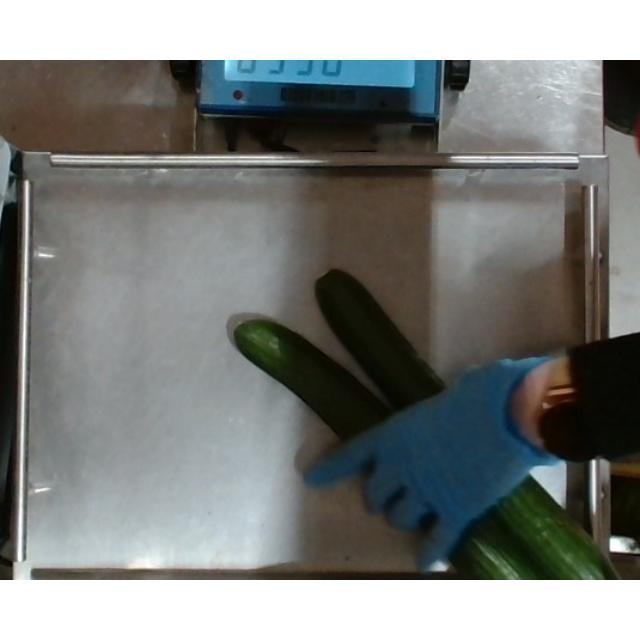cucumber: (304, 264, 618, 580), (219, 302, 541, 580)
